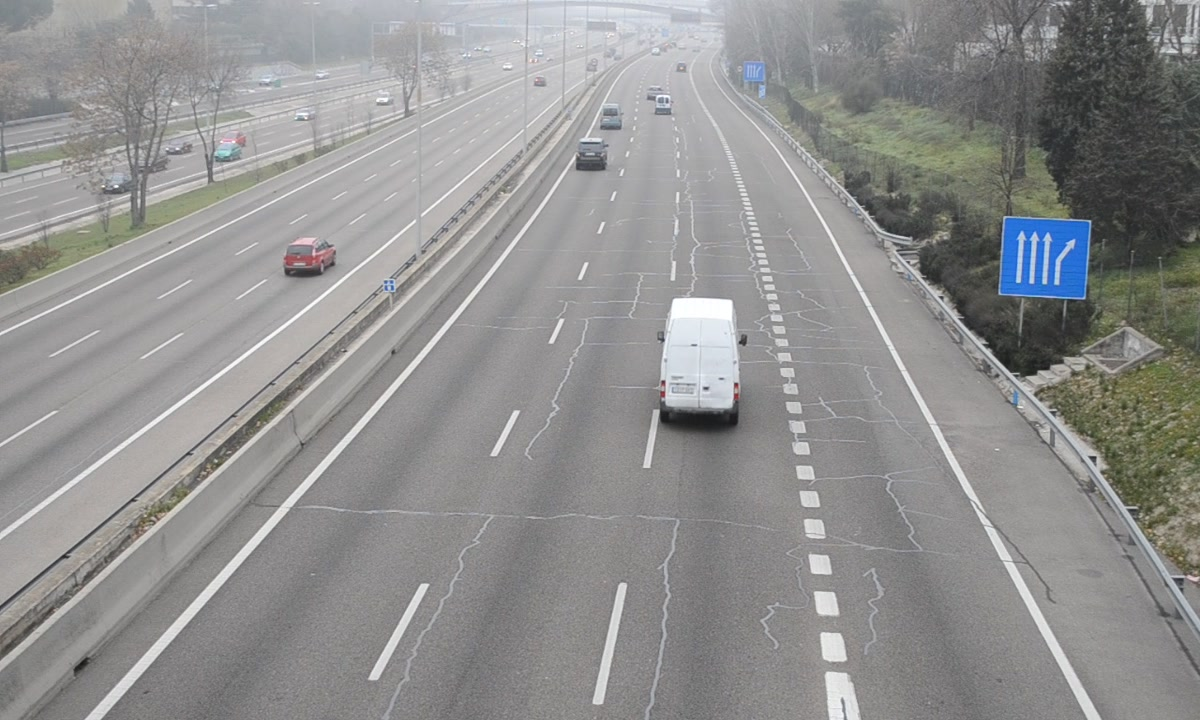car: (575, 138, 608, 171)
van: (659, 297, 741, 427), (600, 102, 620, 131)
